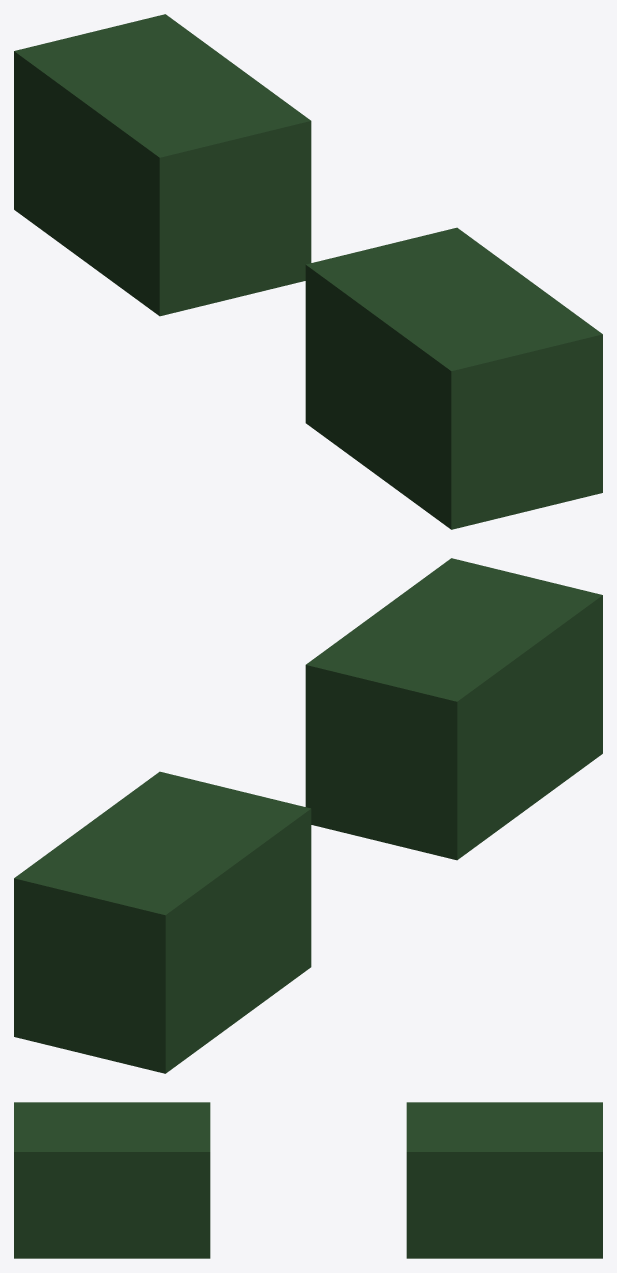
The model's file is map_hole.fbx.
The picture shows the model from 3 angles, top to bottom: view 1: azimuth 30°, elevation 25°; view 2: azimuth 150°, elevation 25°; view 3: azimuth 270°, elevation 25°; orthographic projection. The views are drawn at different scales.
Parts seen in each view (by area): view 1: pCube5; view 2: pCube5; view 3: pCube5.
Part boxes in pixels (x1=…): pCube5: x1=14, y1=14, x2=602, y2=529; pCube5: x1=14, y1=558, x2=602, y2=1073; pCube5: x1=14, y1=1102, x2=602, y2=1258.
Size of the model in its own units: 250 by 250 by 1250.
